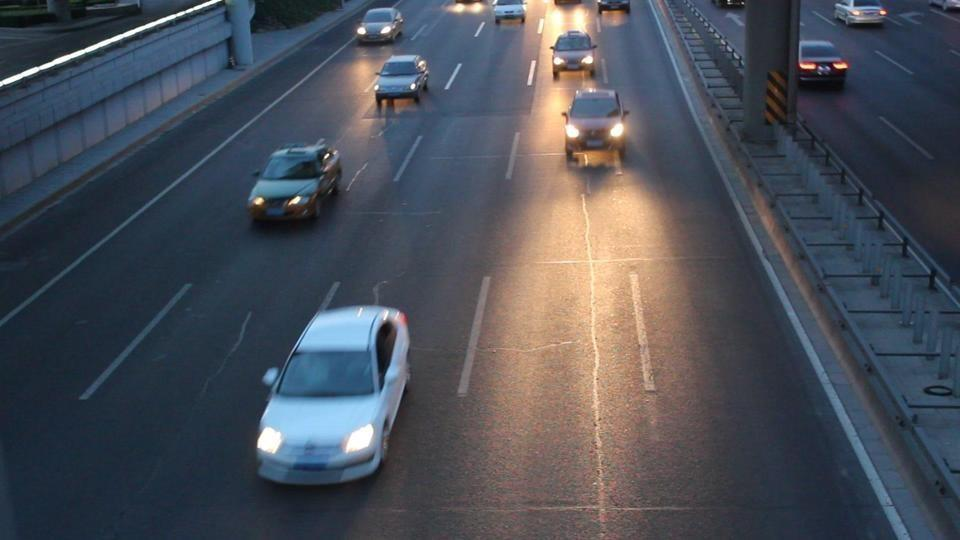car: (253, 304, 414, 486), (246, 141, 343, 224), (562, 88, 631, 169), (373, 53, 431, 105), (797, 39, 850, 90), (551, 30, 596, 75), (355, 7, 405, 44), (834, 0, 888, 28), (493, 1, 526, 26), (597, 0, 631, 21), (929, 0, 960, 14), (716, 0, 747, 9)
